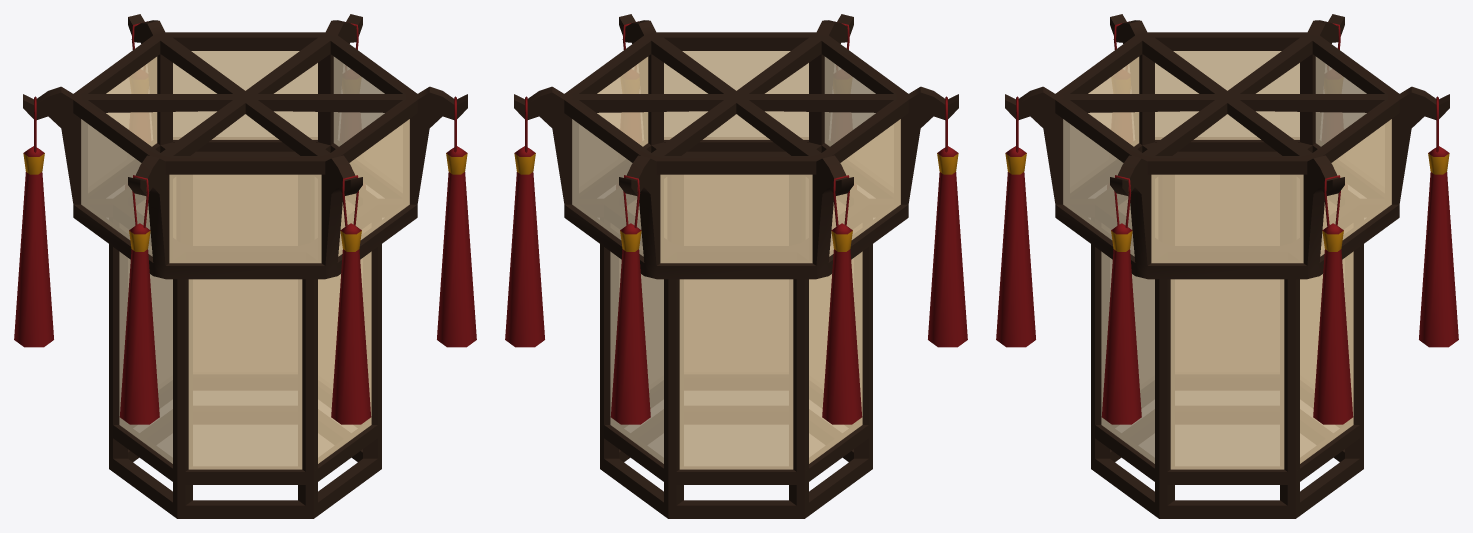
Rendered from lantern.glb.
3 views of the same model, side by side, from view 1: azimuth 30°, elevation 25°; view 2: azimuth 150°, elevation 25°; view 3: azimuth 270°, elevation 25° (orthographic).
Visible parts, largest first — view 1: JapaneseLantern_wood_0, JapaneseLantern_paper_0, JapaneseLantern_redrope_0, JapaneseLantern_goldenrope_0; view 2: JapaneseLantern_wood_0, JapaneseLantern_paper_0, JapaneseLantern_redrope_0, JapaneseLantern_goldenrope_0; view 3: JapaneseLantern_wood_0, JapaneseLantern_paper_0, JapaneseLantern_redrope_0, JapaneseLantern_goldenrope_0.
Part boxes in pixels (x1=…): JapaneseLantern_wood_0: x1=23, y1=14, x2=467, y2=518; JapaneseLantern_paper_0: x1=81, y1=51, x2=409, y2=469; JapaneseLantern_redrope_0: x1=14, y1=21, x2=476, y2=424; JapaneseLantern_goldenrope_0: x1=23, y1=153, x2=467, y2=251; JapaneseLantern_wood_0: x1=514, y1=14, x2=958, y2=518; JapaneseLantern_paper_0: x1=572, y1=51, x2=900, y2=469; JapaneseLantern_redrope_0: x1=505, y1=21, x2=967, y2=424; JapaneseLantern_goldenrope_0: x1=514, y1=153, x2=958, y2=251; JapaneseLantern_wood_0: x1=1005, y1=14, x2=1449, y2=518; JapaneseLantern_paper_0: x1=1063, y1=51, x2=1391, y2=469; JapaneseLantern_redrope_0: x1=996, y1=21, x2=1458, y2=424; JapaneseLantern_goldenrope_0: x1=1005, y1=153, x2=1449, y2=251.
Bounding box in the file's own units: 3.09 × 3.23 × 3.57.
